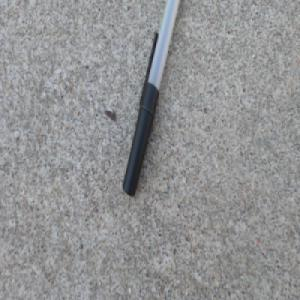Pen: (121, 0, 181, 197)
